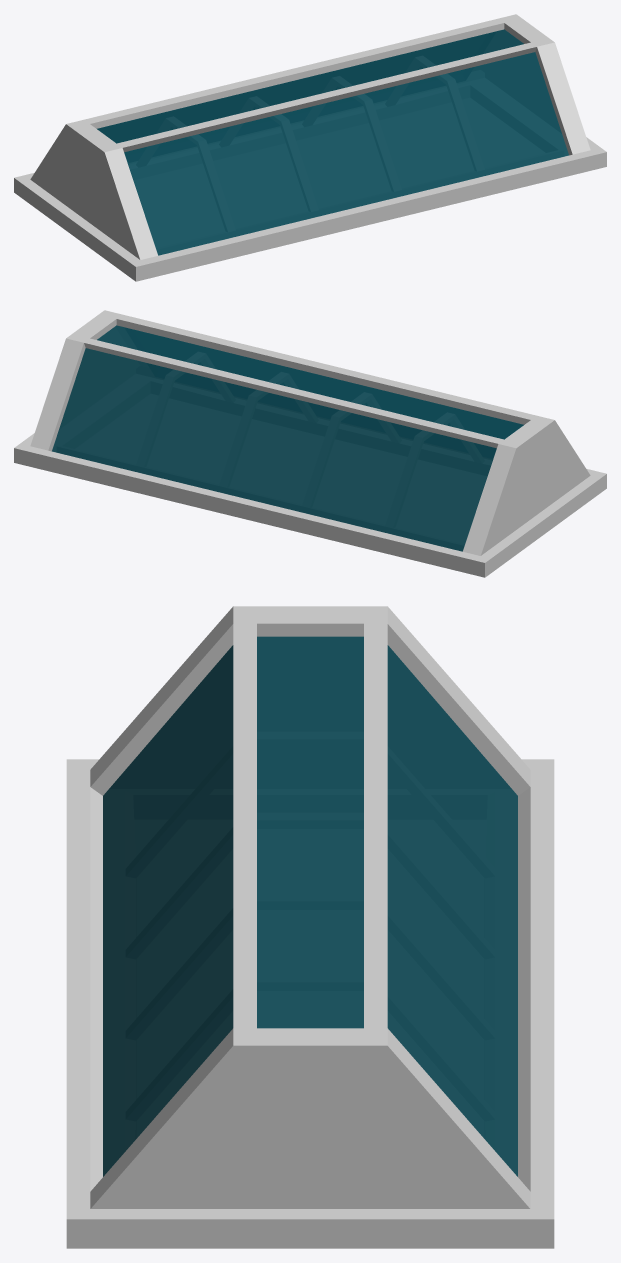
Rendered from skylight_03.fbx.
The picture shows the model from 3 angles, top to bottom: view 1: azimuth 30°, elevation 25°; view 2: azimuth 150°, elevation 25°; view 3: azimuth 270°, elevation 25°; orthographic projection. The views are drawn at different scales.
Parts seen in each view (by area): view 1: skylight_03_glass, skylight_03; view 2: skylight_03_glass, skylight_03; view 3: skylight_03, skylight_03_glass.
Part boxes in pixels (left/top/right/bottom): skylight_03_glass: left=97, top=29, right=568, bottom=255; skylight_03: left=14, top=14, right=606, bottom=281; skylight_03_glass: left=52, top=325, right=523, bottom=551; skylight_03: left=14, top=310, right=606, bottom=577; skylight_03: left=66, top=606, right=554, bottom=1248; skylight_03_glass: left=103, top=636, right=517, bottom=1176.
Bounding box in the file's own units: 746 × 146 × 335.
